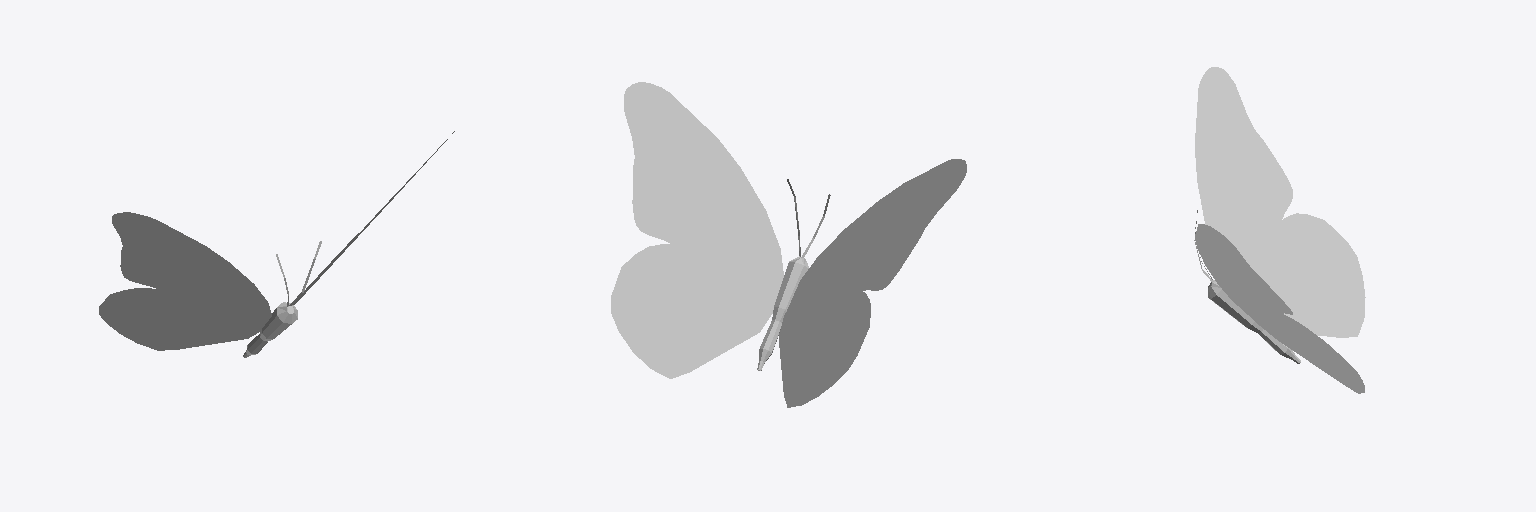
Rendered from butterfly_1.obj.
The picture shows the model from 3 angles: view 1: azimuth 30°, elevation 25°; view 2: azimuth 150°, elevation 25°; view 3: azimuth 270°, elevation 25°; orthographic projection.
Parts seen in each view (by area): view 1: Butterfly; view 2: Butterfly; view 3: Butterfly.
Part boxes in pixels (x1,y1,x2,y2): Butterfly: (99,131,454,357); Butterfly: (611,82,966,407); Butterfly: (1194,67,1365,393).
Bounding box in the file's own units: 2.2 × 1.35 × 0.9582.